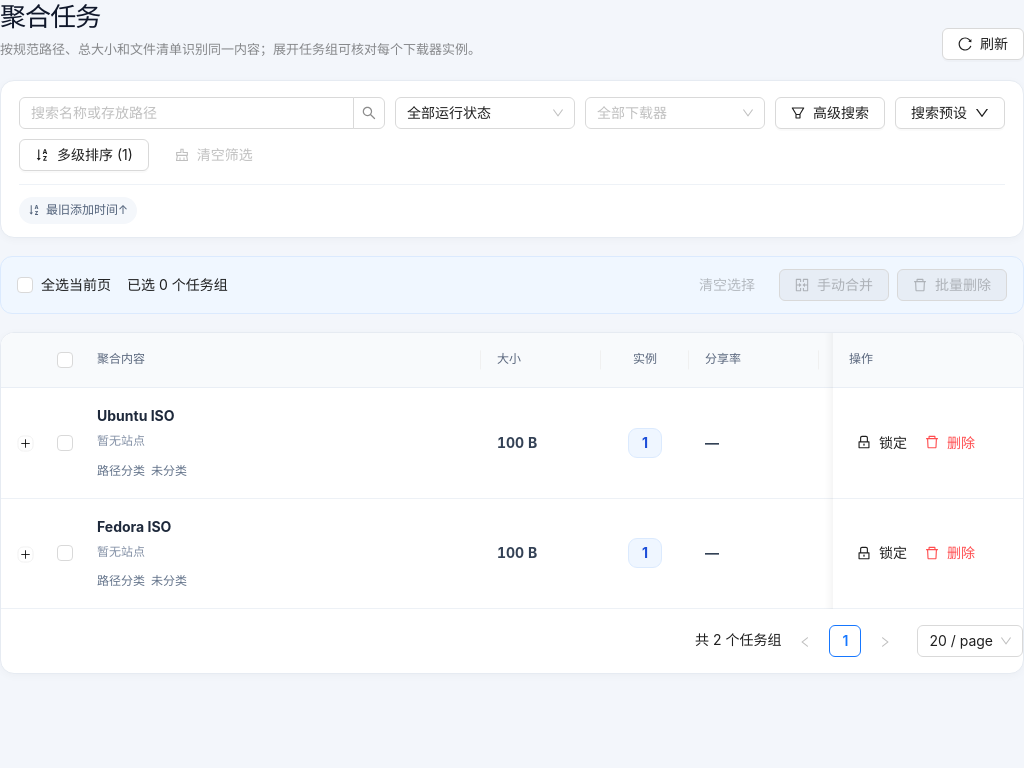
Scenario: bulk selection and deletion › submits one cross-group plan, tracks the job and clears selection (mobile=false)
This screenshot has width=1024, height=768.
Click the 1st checkbox labelled "全选当前页" at (68,285), box [17,274,119,296]
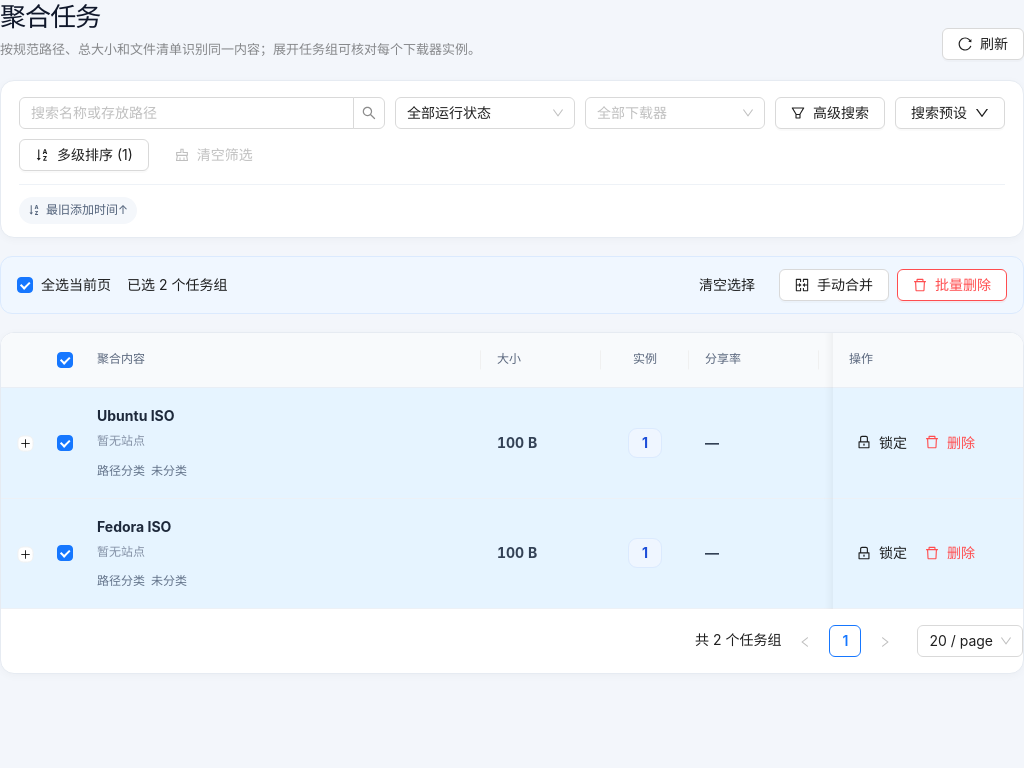
Now the text "已选 2 个任务组" is shown, box [127,276,227,293]
Click the button "批量删除" at (952,285), box [897,269,1007,301]
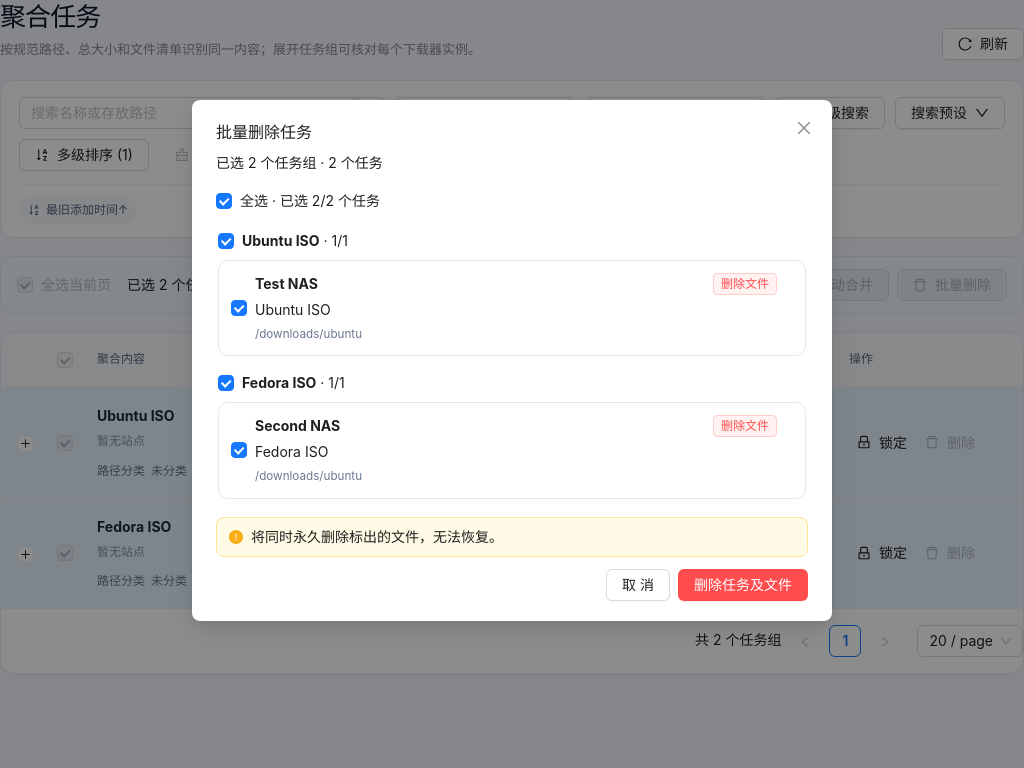
Now the text "已选 2 个任务组 · 2 个任务" is shown, box [216,154,383,171]
Now the 1st checkbox labelled "Test NAS 删除文件 Ubuntu ISO /downloads/ubuntu" is checked, box [218,260,806,356]
Now the 4th checkbox labelled "Second NAS 删除文件 Fedora ISO /downloads/ubuntu" is checked, box [218,402,806,499]
Click the button "删除任务及文件" at (743,585), box [678,569,808,601]
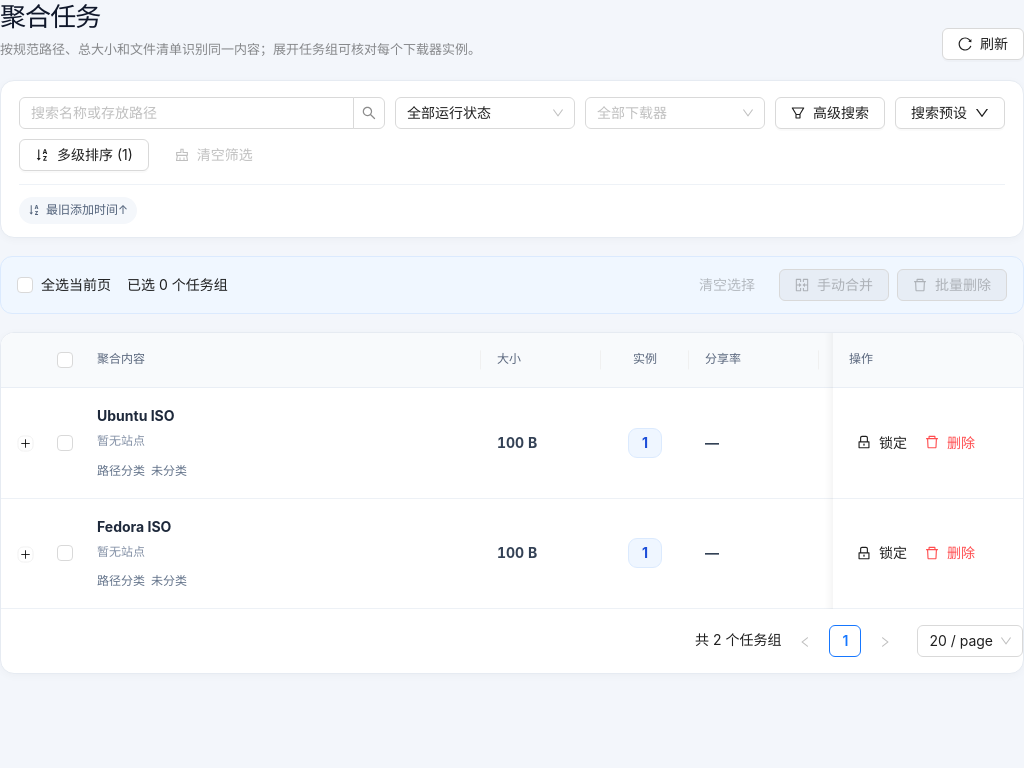
Now the button "批量删除" is disabled, box [897,269,1007,301]
Now the text "已选 0 个任务组" is shown, box [127,276,228,293]
